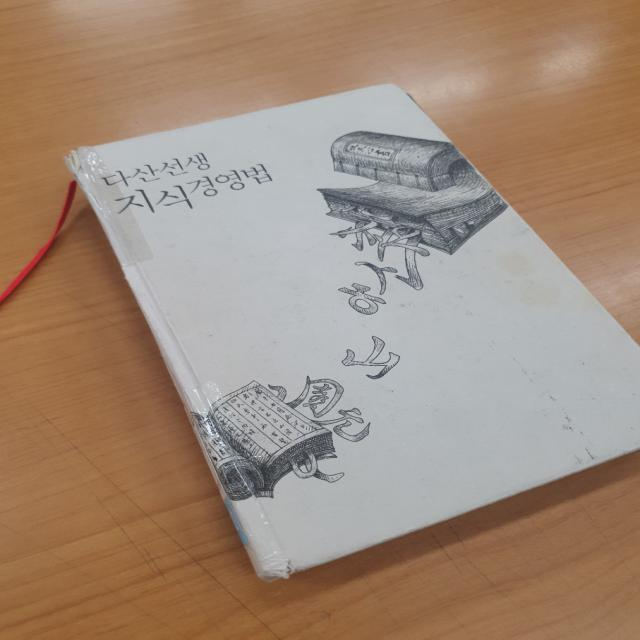Ripped: (58, 145, 106, 212), (256, 557, 333, 586)
Wornout: (375, 526, 424, 545)
